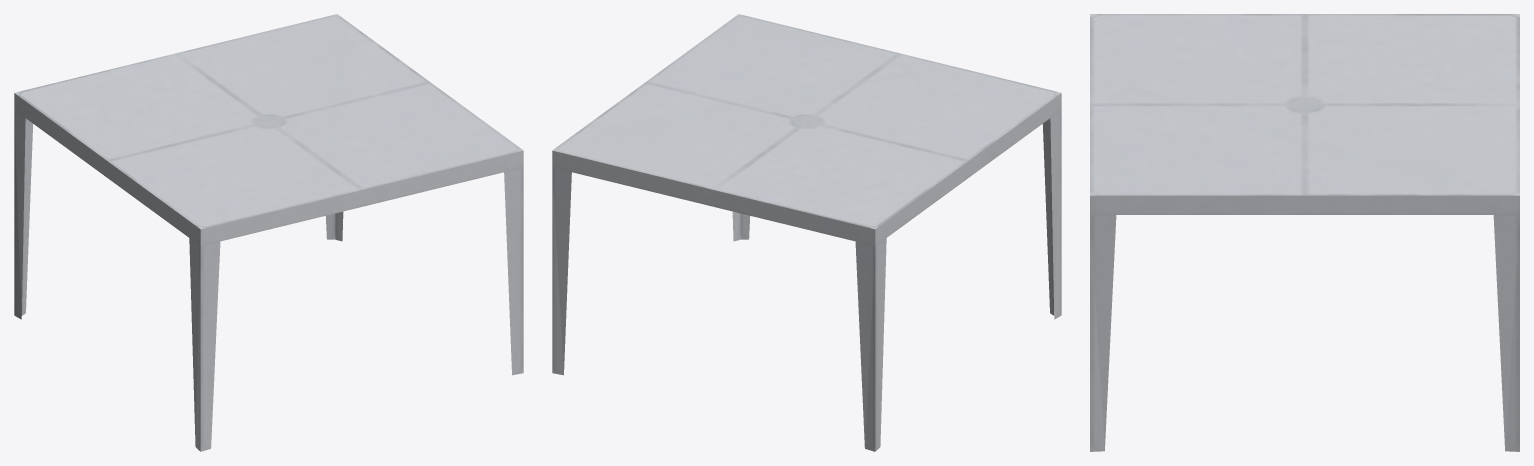
File: CampingTable01.obj
3 views of the same model, side by side, from view 1: azimuth 30°, elevation 25°; view 2: azimuth 150°, elevation 25°; view 3: azimuth 270°, elevation 25° (orthographic). The views are drawn at different scales.
Parts seen in each view (by area): view 1: CampingTable01; view 2: CampingTable01; view 3: CampingTable01.
Boxes of the visible parts, left/top/right/bottom form: CampingTable01: left=14, top=14, right=523, bottom=451; CampingTable01: left=552, top=14, right=1061, bottom=451; CampingTable01: left=1090, top=14, right=1519, bottom=451.
Bounding box in the file's own units: 1.5 × 0.9875 × 1.5.
